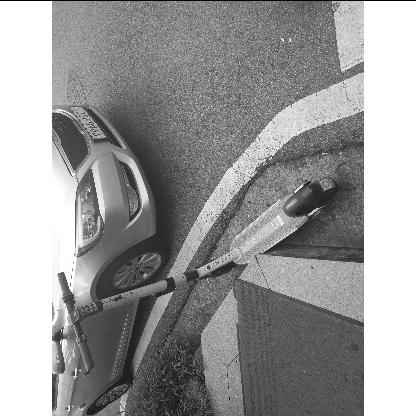bike: (51, 172, 338, 416)
traffic light: (50, 103, 168, 415)
